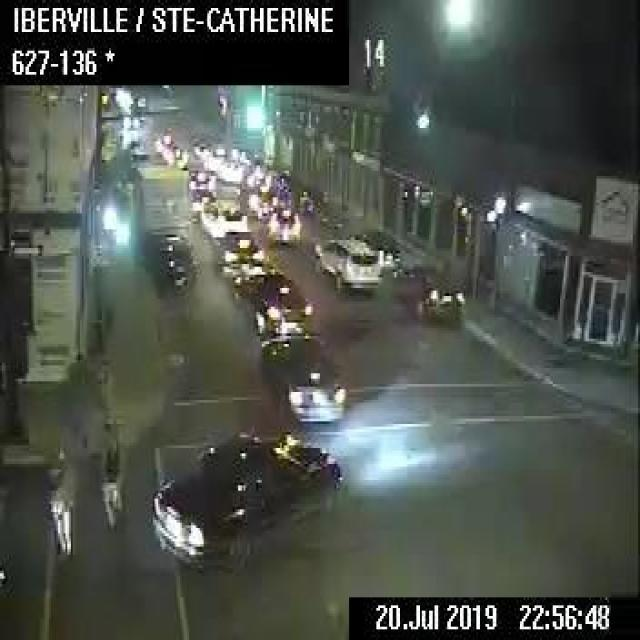pedestrian: (96, 426, 124, 530), (49, 445, 75, 555)
vehicle: (149, 424, 342, 571), (258, 331, 344, 421), (233, 267, 310, 336), (136, 162, 190, 244), (311, 232, 381, 292), (402, 264, 462, 323), (146, 230, 196, 292), (214, 228, 262, 276), (358, 226, 401, 276), (199, 196, 248, 237), (263, 202, 300, 242), (238, 178, 274, 216), (188, 166, 216, 199), (0, 544, 13, 605), (125, 144, 149, 174), (231, 144, 254, 170), (217, 158, 240, 182), (152, 132, 172, 156), (163, 143, 188, 161), (204, 147, 223, 169)
